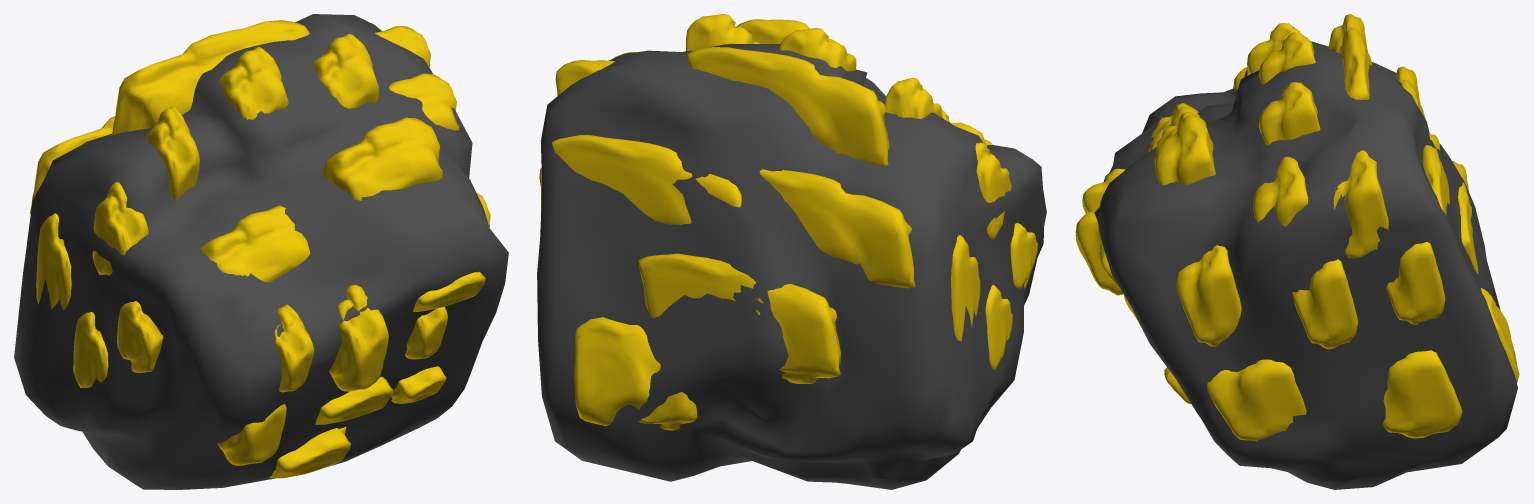
The model's file is Gold.fbx.
The picture shows the model from 3 angles, left to right: view 1: azimuth 30°, elevation 25°; view 2: azimuth 150°, elevation 25°; view 3: azimuth 270°, elevation 25°; orthographic projection. The views are drawn at different scales.
Visible parts, largest first — view 1: Rock_1; view 2: Rock_1; view 3: Rock_1.
Boxes of the visible parts, x1,y1,x2,y2 form: Rock_1: [14, 14, 508, 489]; Rock_1: [537, 14, 1046, 489]; Rock_1: [1075, 14, 1519, 489].
Bounding box in the file's own units: 7.15 × 7.28 × 7.23.
